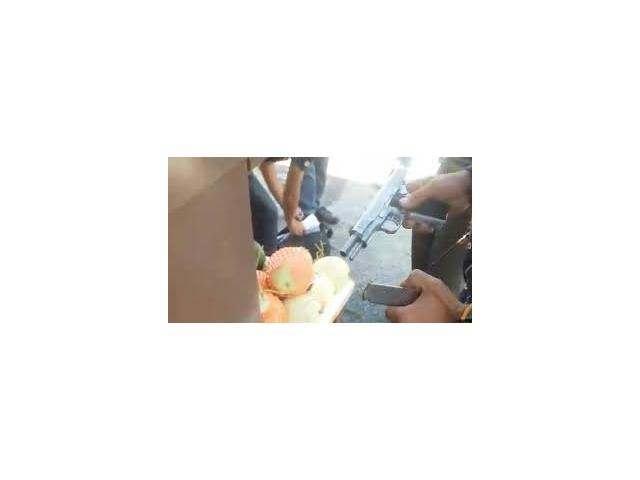pistol: (333, 167, 447, 260)
